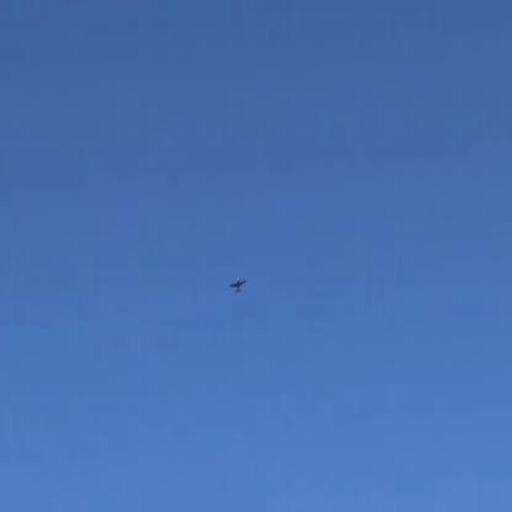aircraft: (228, 277, 248, 292)
